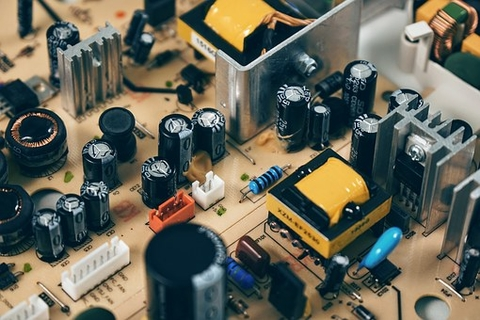capacitor: (269, 78, 313, 158), (155, 104, 197, 187), (186, 95, 232, 165), (42, 17, 83, 90), (341, 52, 381, 126), (52, 183, 91, 252), (73, 175, 117, 236), (27, 204, 67, 268), (350, 111, 385, 182), (137, 152, 179, 210), (80, 136, 123, 190), (306, 99, 335, 150), (137, 31, 155, 72)
